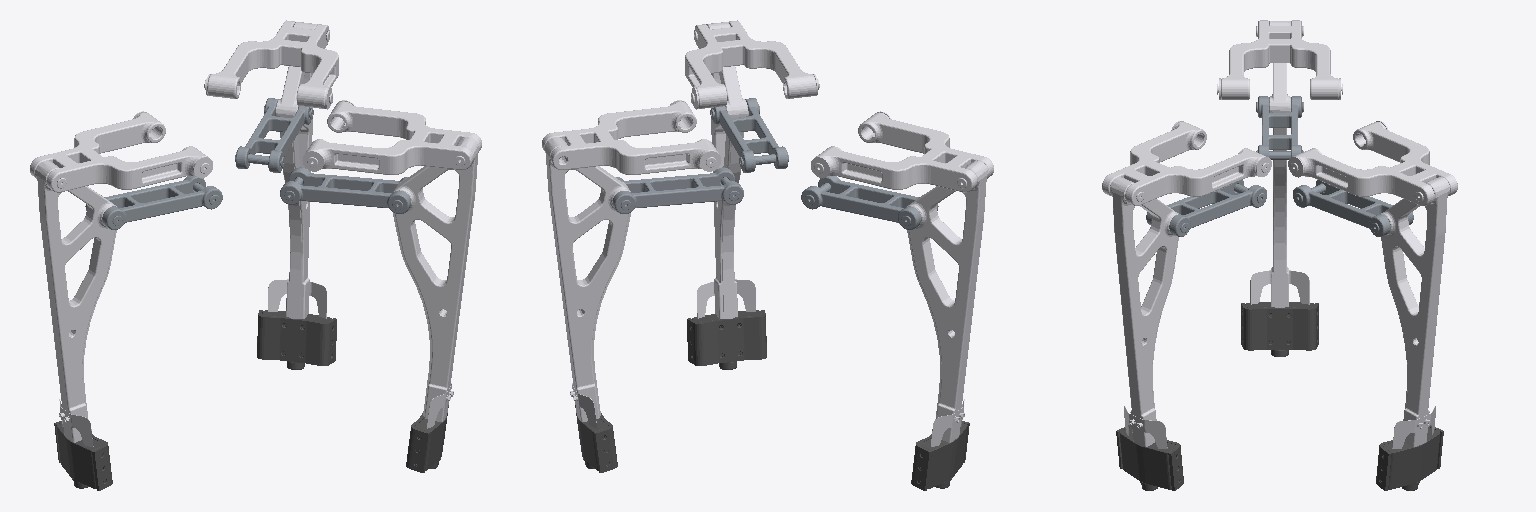
robot.urdf — crt_cthm3f460:
<?xml version="1.0" encoding="utf-8"?>
<!-- This URDF was automatically created by SolidWorks to URDF Exporter! Originally created by Stephen Brawner (brawner@gmail.com) 
     Commit Version: 1.6.0-4-g7f85cfe  Build Version: 1.6.7995.38578
     For more information, please see http://wiki.ros.org/sw_urdf_exporter -->
<robot
  name="crt_cthm3f460">
  <link
    name="base_link">
    <inertial>
      <origin
        xyz="0.0138227641185328 1.20470636124336E-05 -0.125672439272617"
        rpy="0 0 0" />
      <mass
        value="38.2192569660774" />
      <inertia
        ixx="0.214947863154137"
        ixy="-1.07443603392959E-05"
        ixz="-0.000103829200775356"
        iyy="0.326616709977698"
        iyz="-1.32061847089876E-05"
        izz="0.414853422065095" />
    </inertial>
    <visual>
      <origin
        xyz="0 0 0"
        rpy="0 0 0" />
      <geometry>
        <mesh
          filename="package://crt_cthm3f460_gripper_visualization/meshes/base_link.STL" />
      </geometry>
      <material
        name="">
        <color
          rgba="0.866666666666667 0.866666666666667 0.890196078431372 1" />
      </material>
    </visual>
    <collision>
      <origin
        xyz="0 0 0"
        rpy="0 0 0" />
      <geometry>
        <mesh
          filename="package://crt_cthm3f460_gripper_visualization/meshes/base_link.STL" />
      </geometry>
    </collision>
  </link>
   <link
    name="Front_2_Link">
    <inertial>
      <origin
        xyz="0.0749693081439545 0.00214542237089985 -8.24760026864987E-09"
        rpy="0 0 0" />
      <mass
        value="0.365981323770002" />
      <inertia
        ixx="0.000141445915774614"
        ixy="-2.02262050216859E-05"
        ixz="-1.02638354872071E-11"
        iyy="0.000847927030471907"
        iyz="-2.93606461278443E-13"
        izz="0.000732045387586104" />
    </inertial>
    <visual>
      <origin
        xyz="0 0 0"
        rpy="0 0 0" />
      <geometry>
        <mesh
          filename="package://crt_cthm3f460_gripper_visualization/meshes/Front_2_Link.STL" />
      </geometry>
      <material
        name="">
        <color
          rgba="0.615686274509804 0.643137254901961 0.674509803921569 1" />
      </material>
    </visual>
    <collision>
      <origin
        xyz="0 0 0"
        rpy="0 0 0" />
      <geometry>
        <mesh
          filename="package://crt_cthm3f460_gripper_visualization/meshes/Front_2_Link.STL" />
      </geometry>
    </collision>
  </link>
  <joint
    name="Front_2_Joint"
    type="revolute">
    <origin
      xyz="-0.0685 0 -0.32"
      rpy="1.5708 0 3.1416" />
    <parent
      link="base_link" />
    <child
      link="Front_2_Link" />
    <axis
      xyz="0 0 1" />
    <limit
      lower="0"
      upper="-1"
      effort="2"
      velocity="1000" />
    
  </joint>
  <link
    name="Front_1_Link">
    <inertial>
      <origin
        xyz="0.09762008922255 0.000149630918483808 -6.44140558903924E-05"
        rpy="0 0 0" />
      <mass
        value="0.913028469709069" />
      <inertia
        ixx="0.00182280854342483"
        ixy="-9.98746628450683E-06"
        ixz="6.11848683925866E-11"
        iyy="0.00441340492151572"
        iyz="9.63675868365126E-10"
        izz="0.00272455572525337" />
    </inertial>
    <visual>
      <origin
        xyz="0 0 0"
        rpy="0 0 0" />
      <geometry>
        <mesh
          filename="package://crt_cthm3f460_gripper_visualization/meshes/Front_1_Link.STL" />
      </geometry>
      <material
        name="">
        <color
          rgba="0.890196078431372 0.890196078431372 0.913725490196078 1" />
      </material>
    </visual>
    <collision>
      <origin
        xyz="0 0 0"
        rpy="0 0 0" />
      <geometry>
        <mesh
          filename="package://crt_cthm3f460_gripper_visualization/meshes/Front_1_Link.STL" />
      </geometry>
    </collision>
  </link>
  <joint
    name="Front_1_Joint"
    type="revolute">
    <origin
      xyz="-0.115 0 -0.24"
      rpy="1.5708 0 3.1416" />
    <parent
      link="base_link" />
    <child
      link="Front_1_Link" />
    <axis
      xyz="0 0 1" />
    <limit
      lower="0"
      upper="-1"
      effort="2"
      velocity="1000" />
      <mimic
      joint="Front_2_Joint"
      multiplier="0.85"
      offset="0" />
  </joint>
 
  <link
    name="Front_3_Link">
    <inertial>
      <origin
        xyz="0.0469733003804734 -0.0989116712131852 -3.97399713746336E-09"
        rpy="0 0 0" />
      <mass
        value="1.09983992192988" />
      <inertia
        ixx="0.0126576359676176"
        ixy="3.38576322341361E-05"
        ixz="1.24348980813592E-10"
        iyy="0.000829799680588902"
        iyz="5.67586309698845E-10"
        izz="0.0133888613428601" />
    </inertial>
    <visual>
      <origin
        xyz="0 0 0"
        rpy="0 0 0" />
      <geometry>
        <mesh
          filename="package://crt_cthm3f460_gripper_visualization/meshes/Front_3_Link.STL" />
      </geometry>
      <material
        name="">
        <color
          rgba="0.866666666666667 0.866666666666667 0.890196078431372 1" />
      </material>
    </visual>
    <collision>
      <origin
        xyz="0 0 0"
        rpy="0 0 0" />
      <geometry>
        <mesh
          filename="package://crt_cthm3f460_gripper_visualization/meshes/Front_3_Link.STL" />
      </geometry>
    </collision>
  </link>
  <joint
    name="Front_3_Joint"
    type="revolute">
    <origin
      xyz="0.14994 0.0042891 0"
      rpy="0 0 0" />
    <parent
      link="Front_2_Link" />
    <child
      link="Front_3_Link" />
    <axis
      xyz="0 0 1" />
    <limit
      lower="0"
      upper="0"
      effort="0"
      velocity="0" />
    <mimic
      joint="Front_2_Joint"
      multiplier="-0.9"
      offset="0" />
  </joint>
  <link
    name="Front_4_Link">
    <inertial>
      <origin
        xyz="-0.000393910923161822 -0.000424668557202301 -2.23616831345139E-11"
        rpy="0 0 0" />
      <mass
        value="0.585607110984435" />
      <inertia
        ixx="0.000621991936580783"
        ixy="-2.10100437481736E-13"
        ixz="2.60899838021797E-15"
        iyy="0.000376837121428002"
        iyz="-4.39099694351479E-13"
        izz="0.000302289251909991" />
    </inertial>
    <visual>
      <origin
        xyz="0 0 0"
        rpy="0 0 0" />
      <geometry>
        <mesh
          filename="package://crt_cthm3f460_gripper_visualization/meshes/Front_4_Link.STL" />
      </geometry>
      <material
        name="">
        <color
          rgba="0.384313725490196 0.384313725490196 0.384313725490196 1" />
      </material>
    </visual>
    <collision>
      <origin
        xyz="0 0 0"
        rpy="0 0 0" />
      <geometry>
        <mesh
          filename="package://crt_cthm3f460_gripper_visualization/meshes/Front_4_Link.STL" />
      </geometry>
    </collision>
  </link>
  <joint
    name="Front_4_Joint"
    type="fixed">
    <origin
      xyz="0.0382017058447723 -0.351570049897594 0"
      rpy="0 0 -0.11912633736005" />
    <parent
      link="Front_3_Link" />
    <child
      link="Front_4_Link" />
    <axis
      xyz="0 0 0" />
  </joint>
    <link
    name="Left_2_Link">
    <inertial>
      <origin
        xyz="0.0749693021531844 0.00214542237061471 -8.24768551371813E-09"
        rpy="0 0 0" />
      <mass
        value="0.365981446771664" />
      <inertia
        ixx="0.000141445912651995"
        ixy="-2.02262053830522E-05"
        ixz="-1.02629433949711E-11"
        iyy="0.000847927039970595"
        iyz="-2.93580884293772E-13"
        izz="0.000732045393764639" />
    </inertial>
    <visual>
      <origin
        xyz="0 0 0"
        rpy="0 0 0" />
      <geometry>
        <mesh
          filename="package://crt_cthm3f460_gripper_visualization/meshes/Left_2_Link.STL" />
      </geometry>
      <material
        name="">
        <color
          rgba="0.615686274509804 0.643137254901961 0.674509803921569 1" />
      </material>
    </visual>
    <collision>
      <origin
        xyz="0 0 0"
        rpy="0 0 0" />
      <geometry>
        <mesh
          filename="package://crt_cthm3f460_gripper_visualization/meshes/Left_2_Link.STL" />
      </geometry>
    </collision>
  </link>
  <joint
    name="Left_2_Joint"
    type="revolute">
    <origin
      xyz="0.048437 0.048437 -0.32"
      rpy="1.5708 0 0.7854" />
    <parent
      link="base_link" />
    <child
      link="Left_2_Link" />
    <axis
      xyz="0 0 1" />
    <limit
      lower="0"
      upper="-1"
      effort="2"
      velocity="1000" />
  </joint>
  <link
    name="Left_1_Link">
    <inertial>
      <origin
        xyz="0.0909661817175597 -0.000405424826688323 0.000173597026068381"
        rpy="0 0 0" />
      <mass
        value="0.859176679760396" />
      <inertia
        ixx="0.0018100008669636"
        ixy="-9.98746777681673E-06"
        ixz="5.2875210937095E-11"
        iyy="0.00440059302314721"
        iyz="5.73560280176749E-10"
        izz="0.00272351985540618" />
    </inertial>
    <visual>
      <origin
        xyz="0 0 0"
        rpy="0 0 0" />
      <geometry>
        <mesh
          filename="package://crt_cthm3f460_gripper_visualization/meshes/Left_1_Link.STL" />
      </geometry>
      <material
        name="">
        <color
          rgba="0.890196078431372 0.890196078431372 0.913725490196078 1" />
      </material>
    </visual>
    <collision>
      <origin
        xyz="0 0 0"
        rpy="0 0 0" />
      <geometry>
        <mesh
          filename="package://crt_cthm3f460_gripper_visualization/meshes/Left_1_Link.STL" />
      </geometry>
    </collision>
  </link>
  <joint
    name="Left_1_Joint"
    type="revolute">
    <origin
      xyz="0.082008 0.082008 -0.23944"
      rpy="1.5708 0 0.7854" />
    <parent
      link="base_link" />
    <child
      link="Left_1_Link" />
    <axis
      xyz="0.011634 0.0067167 0.99991" />
    <limit
      lower="0"
      upper="0"
      effort="0"
      velocity="0" />
    <mimic
      joint="Left_2_Joint"
      multiplier="0.85"
      offset="0" />
  </joint>

  <link
    name="Left_3_Link">
    <inertial>
      <origin
        xyz="0.0469732943261292 -0.0989116711862561 -3.8755321590811E-09"
        rpy="0 0 0" />
      <mass
        value="1.09983992197001" />
      <inertia
        ixx="0.0126576359742962"
        ixy="3.38576322521506E-05"
        ixz="1.2412550804905E-10"
        iyy="0.000829799678324207"
        iyz="5.68298774135206E-10"
        izz="0.0133888613473772" />
    </inertial>
    <visual>
      <origin
        xyz="0 0 0"
        rpy="0 0 0" />
      <geometry>
        <mesh
          filename="package://crt_cthm3f460_gripper_visualization/meshes/Left_3_Link.STL" />
      </geometry>
      <material
        name="">
        <color
          rgba="0.866666666666667 0.866666666666667 0.890196078431372 1" />
      </material>
    </visual>
    <collision>
      <origin
        xyz="0 0 0"
        rpy="0 0 0" />
      <geometry>
        <mesh
          filename="package://crt_cthm3f460_gripper_visualization/meshes/Left_3_Link.STL" />
      </geometry>
    </collision>
  </link>
  <joint
    name="Left_3_Joint"
    type="revolute">
    <origin
      xyz="0.149938665243128 0.00428913337506043 0"
      rpy="0 0 0" />
    <parent
      link="Left_2_Link" />
    <child
      link="Left_3_Link" />
    <axis
      xyz="0 0 1" />
    <limit
      lower="0"
      upper="0"
      effort="0"
      velocity="0" />
    <mimic
      joint="Left_2_Joint"
      multiplier="-0.9"
      offset="0" />
  </joint>
  <link
    name="Left_4_Link">
    <inertial>
      <origin
        xyz="-0.000393911857353602 -0.000424668686411056 -1.32006985897881E-09"
        rpy="0 0 0" />
      <mass
        value="0.585607111224019" />
      <inertia
        ixx="0.000621991936728106"
        ixy="2.4965854816155E-13"
        ixz="3.20435952078091E-16"
        iyy="0.000376837121393754"
        iyz="-4.38093680256435E-13"
        izz="0.000302289252018794" />
    </inertial>
    <visual>
      <origin
        xyz="0 0 0"
        rpy="0 0 0" />
      <geometry>
        <mesh
          filename="package://crt_cthm3f460_gripper_visualization/meshes/Left_4_Link.STL" />
      </geometry>
      <material
        name="">
        <color
          rgba="0.384313725490196 0.384313725490196 0.384313725490196 1" />
      </material>
    </visual>
    <collision>
      <origin
        xyz="0 0 0"
        rpy="0 0 0" />
      <geometry>
        <mesh
          filename="package://crt_cthm3f460_gripper_visualization/meshes/Left_4_Link.STL" />
      </geometry>
    </collision>
  </link>
  <joint
    name="Left_4_Joint"
    type="fixed">
    <origin
      xyz="0.0382016998169794 -0.351570049893129 0"
      rpy="0 0 -0.119126337359914" />
    <parent
      link="Left_3_Link" />
    <child
      link="Left_4_Link" />
    <axis
      xyz="0 0 0" />
  </joint>

  <link
    name="Right_2_Link">
    <inertial>
      <origin
        xyz="0.0750000000000056 8.56033116197752E-07 -8.24759627260363E-09"
        rpy="0 0 0" />
      <mass
        value="0.365981446771664" />
      <inertia
        ixx="0.000140867320246329"
        ixy="-1.120193911472E-10"
        ixz="-1.02671411479562E-11"
        iyy="0.000848505632376262"
        iyz="-4.06575814682064E-20"
        izz="0.00073204539376464" />
    </inertial>
    <visual>
      <origin
        xyz="0 0 0"
        rpy="0 0 0" />
      <geometry>
        <mesh
          filename="package://crt_cthm3f460_gripper_visualization/meshes/Right_2_Link.STL" />
      </geometry>
      <material
        name="">
        <color
          rgba="0.615686274509804 0.643137254901961 0.674509803921569 1" />
      </material>
    </visual>
    <collision>
      <origin
        xyz="0 0 0"
        rpy="0 0 0" />
      <geometry>
        <mesh
          filename="package://crt_cthm3f460_gripper_visualization/meshes/Right_2_Link.STL" />
      </geometry>
    </collision>
  </link>
  <joint
    name="Right_2_Joint"
    type="revolute">
    <origin
      xyz="0.0484368145112859 -0.0484368145112862 -0.319999999999995"
      rpy="1.5707963267949 -0.0285981205150751 -0.785398163397443" />
    <parent
      link="base_link" />
    <child
      link="Right_2_Link" />
    <axis
      xyz="0 0 1" />
    <limit
      lower="0"
      upper="-1"
      effort="2"
      velocity="1000" />
  </joint>

  <link
    name="Right_1_Link">
    <inertial>
      <origin
        xyz="0.0925391275984446 0.000157862445698022 2.33838240437656E-10"
        rpy="0 0 0" />
      <mass
        value="0.864427542809514" />
      <inertia
        ixx="0.00181014177948557"
        ixy="-9.98746804495859E-06"
        ixz="5.28749093120506E-11"
        iyy="0.00440073393162216"
        iyz="5.73560278871471E-10"
        izz="0.00272361367246872" />
    </inertial>
    <visual>
      <origin
        xyz="0 0 0"
        rpy="0 0 0" />
      <geometry>
        <mesh
          filename="package://crt_cthm3f460_gripper_visualization/meshes/Right_1_Link.STL" />
      </geometry>
      <material
        name="">
        <color
          rgba="0.890196078431372 0.890196078431372 0.913725490196078 1" />
      </material>
    </visual>
    <collision>
      <origin
        xyz="0 0 0"
        rpy="0 0 0" />
      <geometry>
        <mesh
          filename="package://crt_cthm3f460_gripper_visualization/meshes/Right_1_Link.STL" />
      </geometry>
    </collision>
  </link>
  <joint
    name="Right_1_Joint"
    type="revolute">
    <origin
      xyz="0.081317 -0.081317 -0.24"
      rpy="1.5708 0 -0.7854" />
    <parent
      link="base_link" />
    <child
      link="Right_1_Link" />
    <axis
      xyz="0 0 1" />
    <limit
      lower="0"
      upper="0"
      effort="0"
      velocity="0" />
    <mimic
      joint="Right_2_Joint"
      multiplier="0.85"
      offset="0" />
  </joint>
  

  <link
    name="Right_3_Link">
    <inertial>
      <origin
        xyz="0.0469733003168455 -0.0989116711862762 -3.87546174318576E-09"
        rpy="0 0 0" />
      <mass
        value="1.09983992197001" />
      <inertia
        ixx="0.0126576359742962"
        ixy="3.38576322518692E-05"
        ixz="1.24125508482731E-10"
        iyy="0.000829799678324187"
        iyz="5.68298784123418E-10"
        izz="0.0133888613473771" />
    </inertial>
    <visual>
      <origin
        xyz="0 0 0"
        rpy="0 0 0" />
      <geometry>
        <mesh
          filename="package://crt_cthm3f460_gripper_visualization/meshes/Right_3_Link.STL" />
      </geometry>
      <material
        name="">
        <color
          rgba="0.866666666666667 0.866666666666667 0.890196078431372 1" />
      </material>
    </visual>
    <collision>
      <origin
        xyz="0 0 0"
        rpy="0 0 0" />
      <geometry>
        <mesh
          filename="package://crt_cthm3f460_gripper_visualization/meshes/Right_3_Link.STL" />
      </geometry>
    </collision>
  </link>
  <joint
    name="Right_3_Joint"
    type="revolute">
    <origin
      xyz="0.15 0 0"
      rpy="0 0 -0.0285981205150857" />
    <parent
      link="Right_2_Link" />
    <child
      link="Right_3_Link" />
    <axis
      xyz="0 0 -1" />
    <limit
      lower="0"
      upper="0"
      effort="0"
      velocity="0" />
    <mimic
      joint="Right_2_Joint"
      multiplier="0.9"
      offset="0" />
  </joint>
  <link
    name="Right_4_Link">
    <inertial>
      <origin
        xyz="-0.000393910887544202 -0.00042466856585982 -2.22815377259877E-11"
        rpy="0 0 0" />
      <mass
        value="0.585607111223892" />
      <inertia
        ixx="0.000621991936728106"
        ixy="2.49656098542266E-13"
        ixz="3.19555037812946E-16"
        iyy="0.000376837121393753"
        iyz="-4.38093795452916E-13"
        izz="0.000302289252018793" />
    </inertial>
    <visual>
      <origin
        xyz="0 0 0"
        rpy="0 0 0" />
      <geometry>
        <mesh
          filename="package://crt_cthm3f460_gripper_visualization/meshes/Right_4_Link.STL" />
      </geometry>
      <material
        name="">
        <color
          rgba="0.384313725490196 0.384313725490196 0.384313725490196 1" />
      </material>
    </visual>
    <collision>
      <origin
        xyz="0 0 0"
        rpy="0 0 0" />
      <geometry>
        <mesh
          filename="package://crt_cthm3f460_gripper_visualization/meshes/Right_4_Link.STL" />
      </geometry>
    </collision>
  </link>
  <joint
    name="Right_4_Joint"
    type="fixed">
    <origin
      xyz="0.038201705844819 -0.351570049897594 0"
      rpy="0 0 -0.119126337359926" />
    <parent
      link="Right_3_Link" />
    <child
      link="Right_4_Link" />
    <axis
      xyz="0 0 0" />
  </joint>
</robot>

--- Facts derived from the render (not from the file) ---
Views: 3 orthographic renders of the robot side by side, from view 1: azimuth 30°, elevation 25°; view 2: azimuth 150°, elevation 25°; view 3: azimuth 270°, elevation 25°.
Model crt_cthm3f460 with 13 links and 12 joints (9 revolute, 3 fixed), rooted at base_link, posed all joints at 0.
Visible links, largest first — view 1: Front_3_Link, Right_3_Link, Right_1_Link, Front_1_Link, Left_1_Link, Left_3_Link, Left_4_Link, Right_2_Link, Front_2_Link, Left_2_Link, Front_4_Link, Right_4_Link; view 2: Front_3_Link, Left_3_Link, Left_1_Link, Front_1_Link, Right_1_Link, Right_3_Link, Right_4_Link, Left_2_Link, Front_2_Link, Right_2_Link, Front_4_Link, Left_4_Link; view 3: Left_3_Link, Right_3_Link, Left_1_Link, Right_1_Link, Front_1_Link, Front_3_Link, Front_4_Link, Right_4_Link, Left_4_Link, Right_2_Link, Left_2_Link, Front_2_Link.
Boxes of the visible links, x1,y1,x2,y2 form: Front_3_Link: (35,160,116,446); Right_3_Link: (393,137,479,428); Right_1_Link: (302,100,481,174); Front_1_Link: (30,111,212,192); Left_1_Link: (204,20,338,109); Left_3_Link: (268,22,326,318); Left_4_Link: (257,310,336,369); Right_2_Link: (280,167,410,213); Front_2_Link: (85,176,222,229); Left_2_Link: (235,98,313,172); Front_4_Link: (54,421,112,490); Right_4_Link: (406,405,448,472); Front_3_Link: (907,160,988,446); Left_3_Link: (544,137,630,428); Left_1_Link: (542,100,721,174); Front_1_Link: (811,111,993,192); Right_1_Link: (685,20,819,109); Right_3_Link: (697,22,755,318); Right_4_Link: (687,310,766,369); Left_2_Link: (613,167,743,213); Front_2_Link: (801,176,938,229); Right_2_Link: (710,98,788,172); Front_4_Link: (911,421,969,490); Left_4_Link: (575,405,617,472); Left_3_Link: (1381,177,1449,448); Right_3_Link: (1110,177,1178,448); Left_1_Link: (1288,121,1457,205); Right_1_Link: (1102,121,1271,205); Front_1_Link: (1217,20,1342,99); Front_3_Link: (1250,21,1309,307); Front_4_Link: (1241,302,1318,356); Right_4_Link: (1116,425,1183,490); Left_4_Link: (1376,425,1443,490); Right_2_Link: (1146,180,1266,236); Left_2_Link: (1293,180,1413,236); Front_2_Link: (1256,96,1303,159).
Bounding box of the posed robot: 0.5666 × 0.4932 × 0.4875 m (x, y, z).
12 mesh visuals loaded from 13 distinct referenced files (12 binary STL); not drawn: 1 (reference not matched to a file when rendering).
